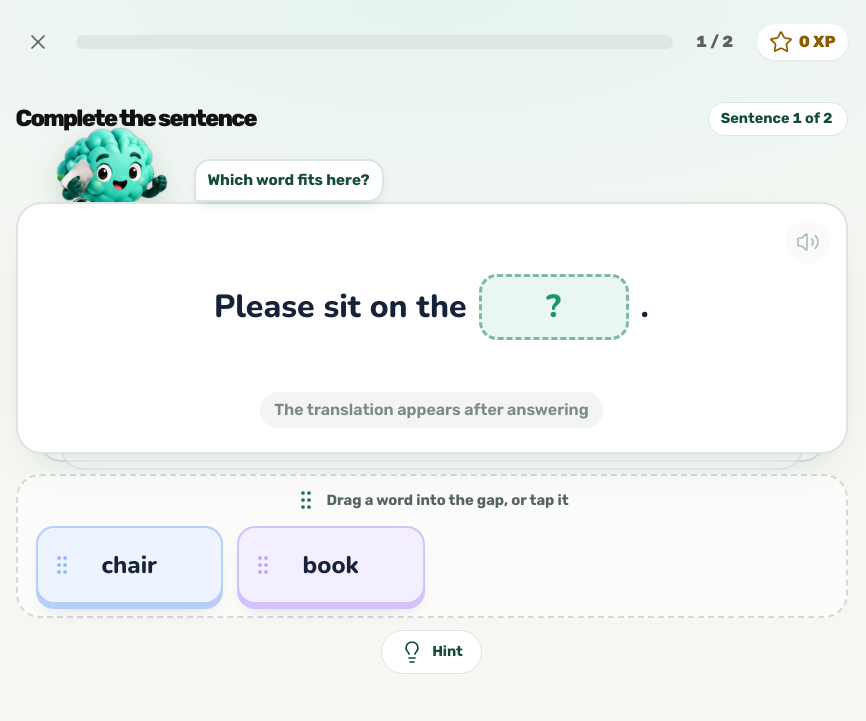
Test case: DEV focus game engine › keeps cloze audio silent before a successful receipt, including retries
Expected: the button "chair" is shown, [36,526,223,604]
Expected: the button named "Listen to the sentence" is disabled, [786,220,830,264]
What coordinates should you click on to do the following:
click the button "book"
I would click on:
 (331, 565)
Its box is [237,526,424,604].
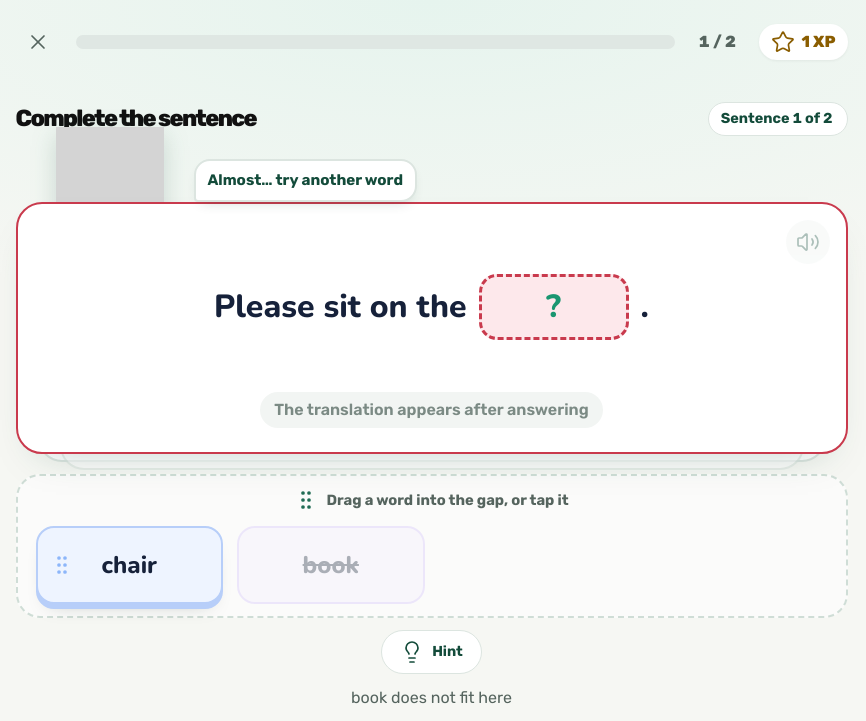
Expected: the button named "Listen to the sentence" is disabled, [786,220,830,264]
What coordinates should you click on to do the following:
click the button "chair"
I would click on:
 (129, 565)
Its box is [36,526,223,604].
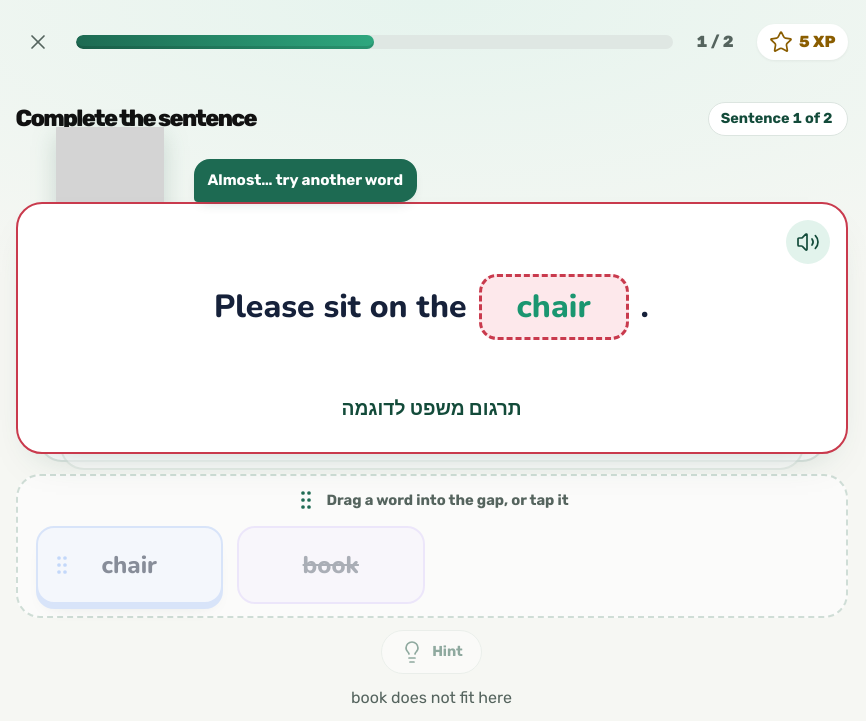
Result: the button named "Listen to the sentence" is enabled at [786,220,830,264]
